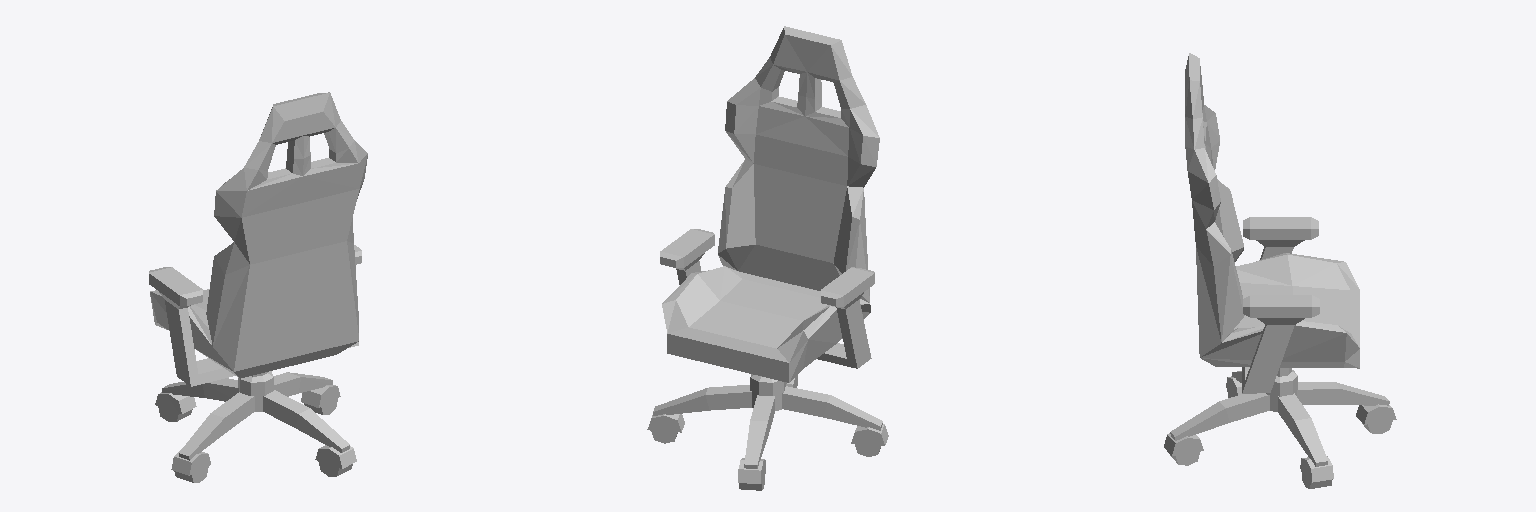
Rendered from SM_Prop_Chair_10_OBJ.obj.
The picture shows the model from 3 angles: view 1: azimuth 30°, elevation 25°; view 2: azimuth 150°, elevation 25°; view 3: azimuth 270°, elevation 25°; orthographic projection.
Parts seen in each view (by area): view 1: SM_Prop_Chair_10; view 2: SM_Prop_Chair_10; view 3: SM_Prop_Chair_10.
Boxes of the visible parts, x1,y1,x2,y2 form: SM_Prop_Chair_10: [149, 92, 367, 482]; SM_Prop_Chair_10: [647, 26, 888, 490]; SM_Prop_Chair_10: [1164, 53, 1396, 488].
Size of the model in its own units: 70.55 by 127 by 70.55.